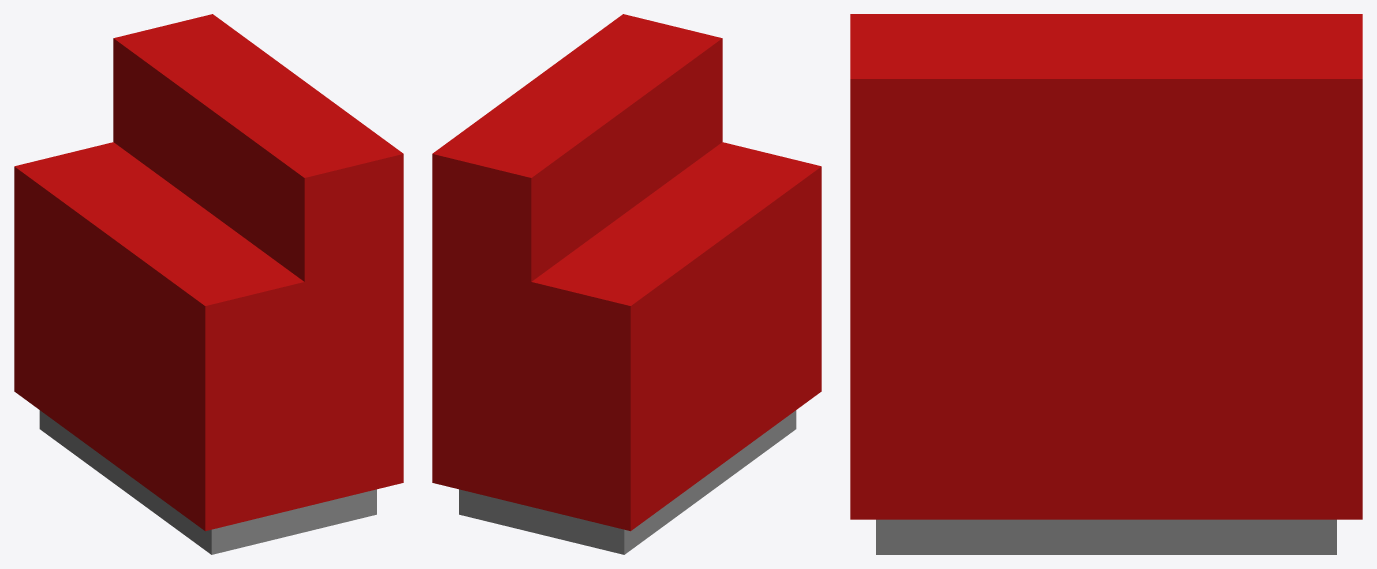
The model's file is Counter_8_Exhibition_Bar_Counter1_Bar_Counter001.FBX.
3 renders of one model, left to right at view 1: azimuth 30°, elevation 25°; view 2: azimuth 150°, elevation 25°; view 3: azimuth 270°, elevation 25°, orthographic. The views are drawn at different scales.
Parts seen in each view (by area): view 1: Counter_8_Exhibition_Bar_Counter1_Bar_Counter001; view 2: Counter_8_Exhibition_Bar_Counter1_Bar_Counter001; view 3: Counter_8_Exhibition_Bar_Counter1_Bar_Counter001.
Boxes of the visible parts, box(x1,y1,x2,y2) form: Counter_8_Exhibition_Bar_Counter1_Bar_Counter001: box(14, 14, 403, 554); Counter_8_Exhibition_Bar_Counter1_Bar_Counter001: box(432, 14, 821, 554); Counter_8_Exhibition_Bar_Counter1_Bar_Counter001: box(850, 14, 1362, 554).
Size of the model in its own units: 60 by 105 by 100.
